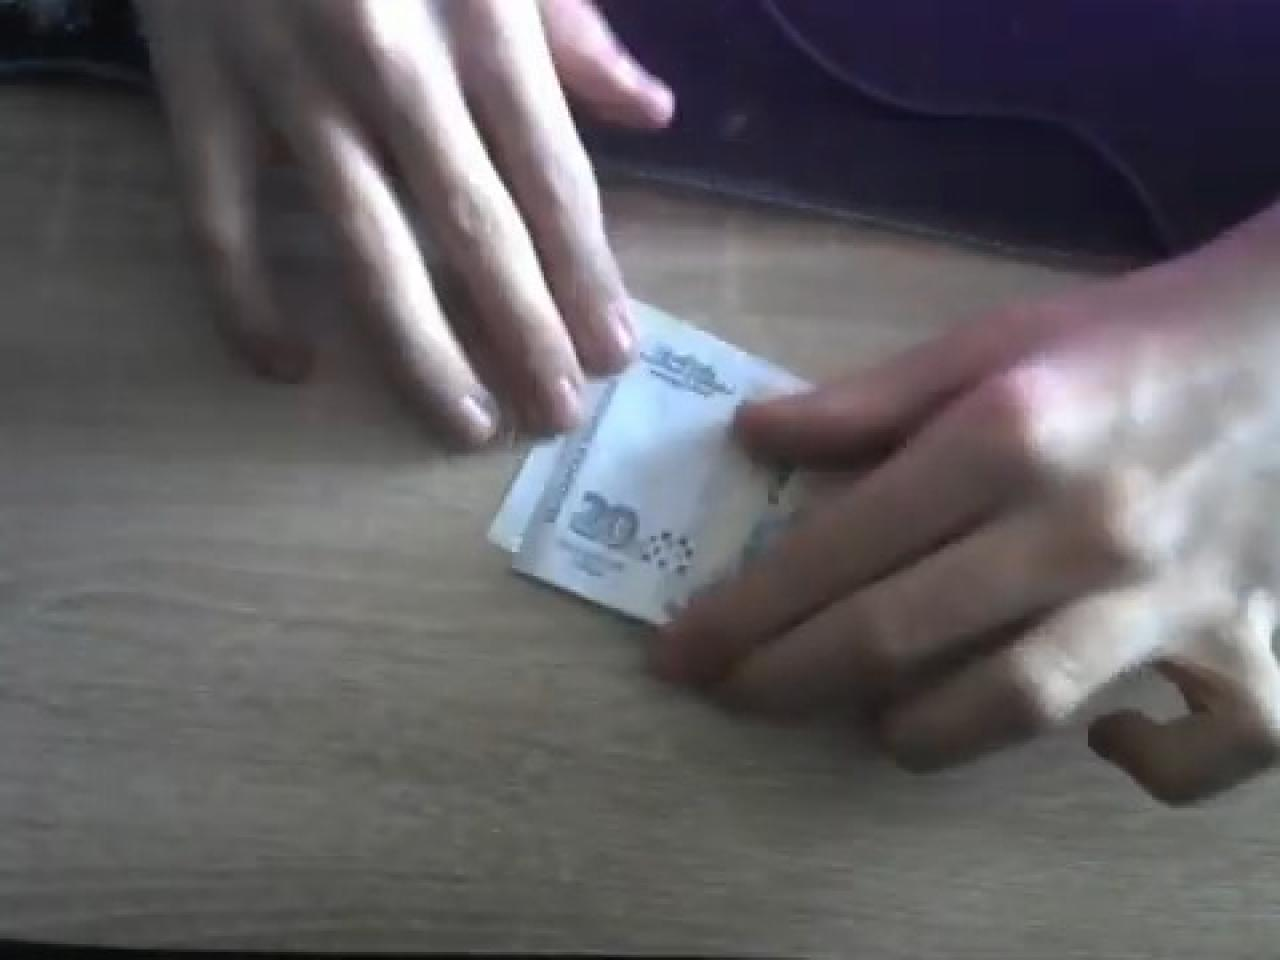20leva: (486, 307, 813, 626)
